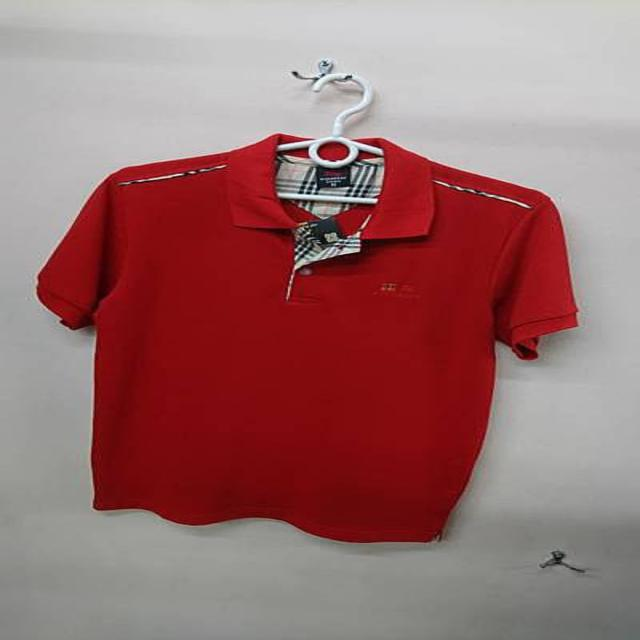T_SHIRT: (22, 122, 600, 552)
